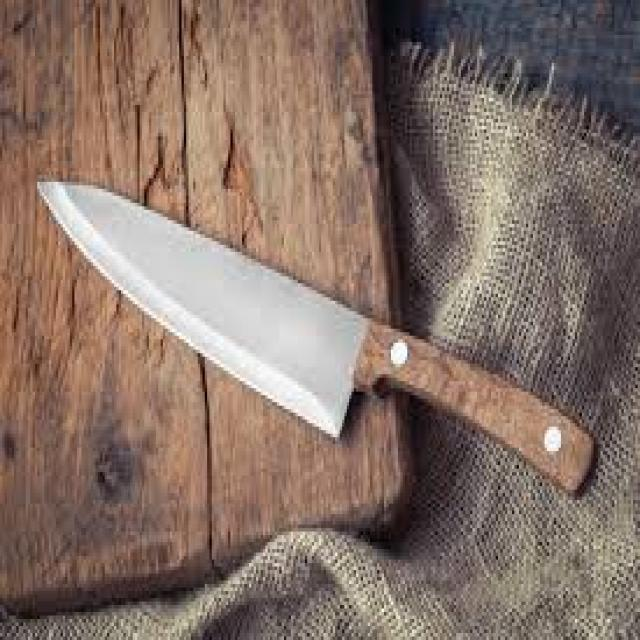Knife: (37, 178, 593, 490)
